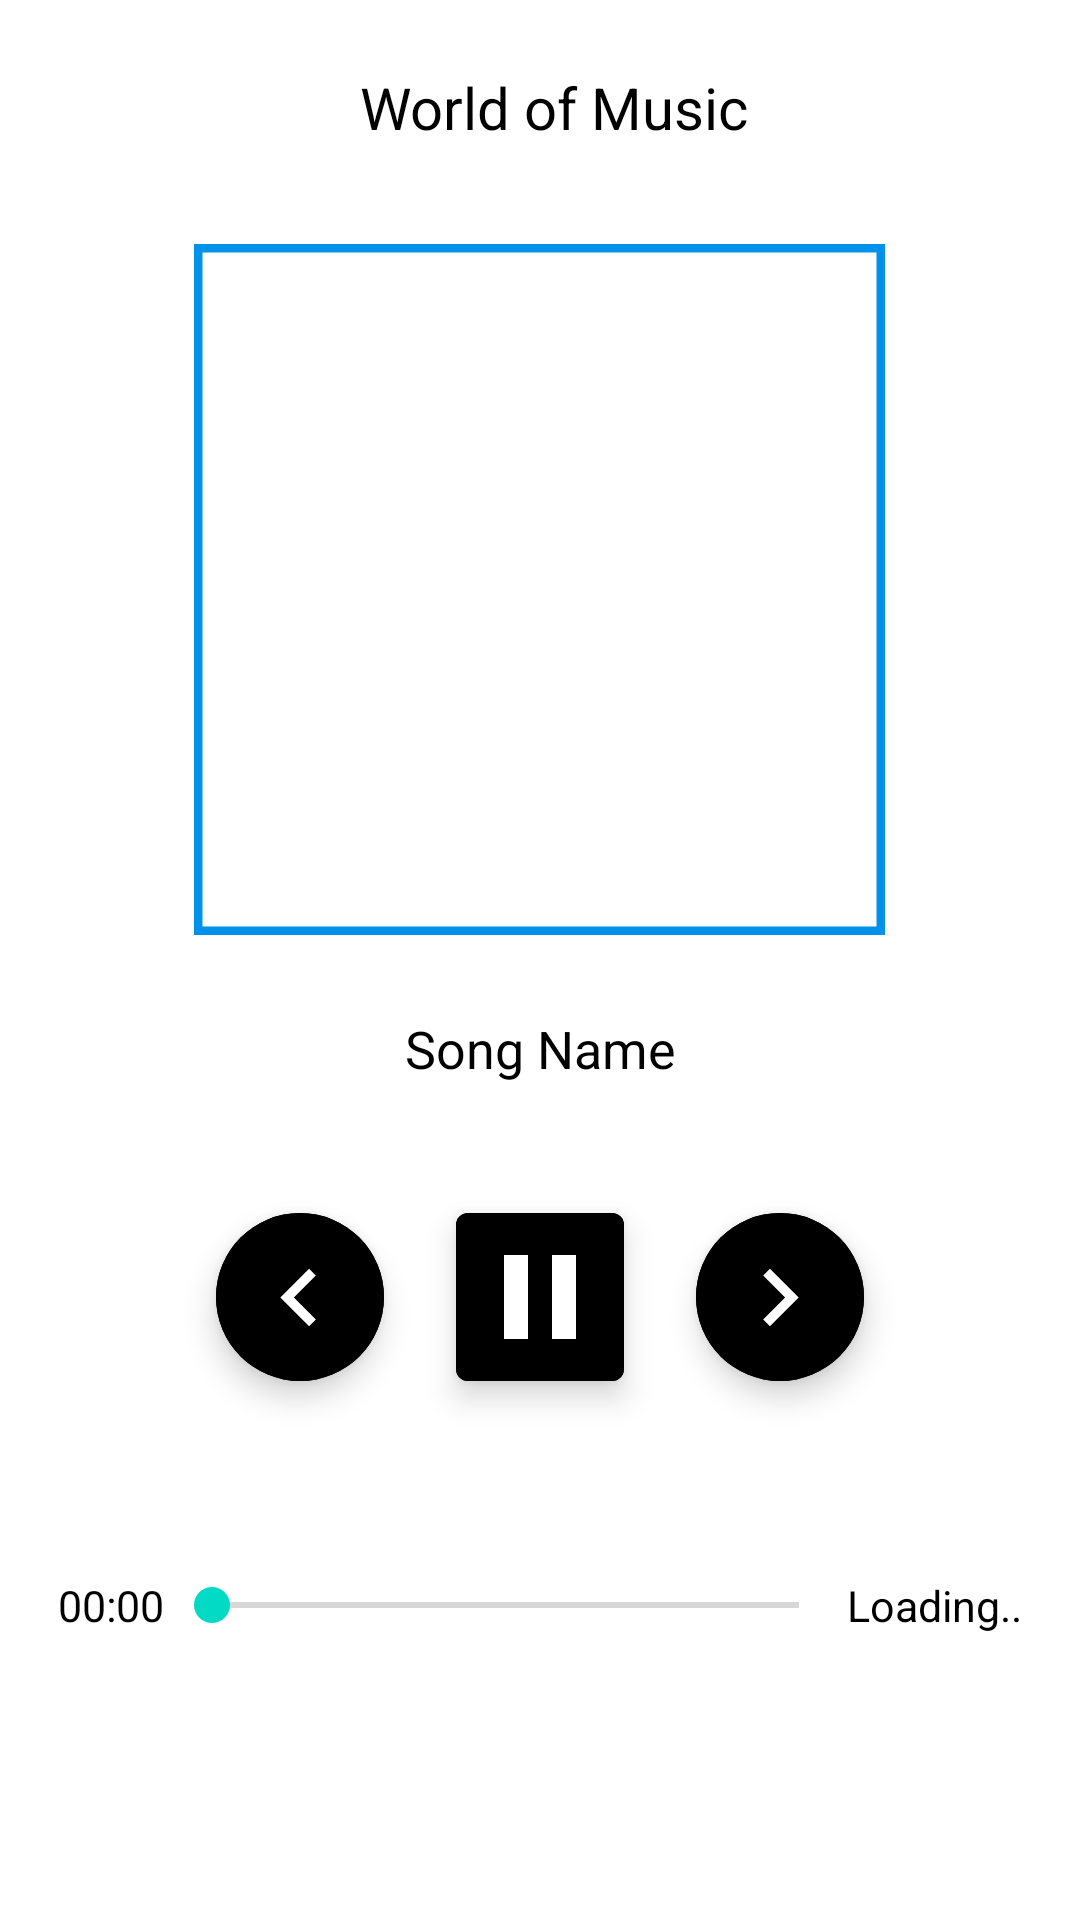

Screen size 1080 x 1920. Icon name, then its box in pixels as {"left": x1, "top": y1, "right": x2, "bottom": y2}:
next: {"left": 696, "top": 1213, "right": 864, "bottom": 1381}
pause: {"left": 456, "top": 1213, "right": 624, "bottom": 1381}
previous: {"left": 216, "top": 1213, "right": 384, "bottom": 1381}
